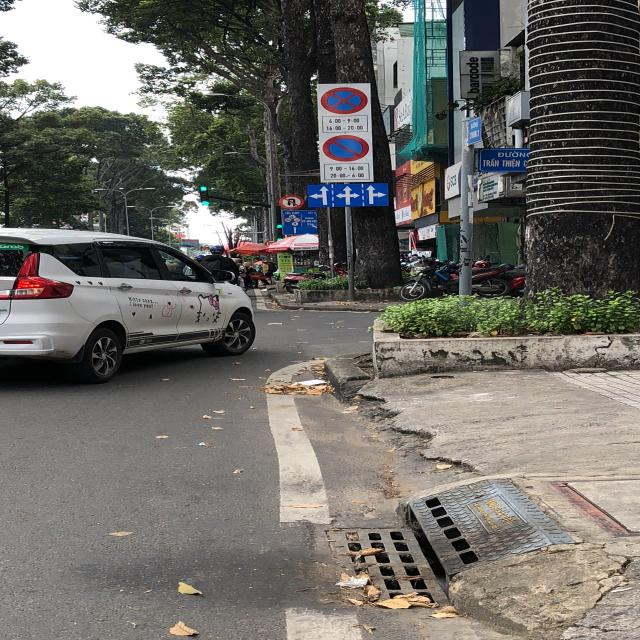Bien bao cam do xe: (320, 134, 371, 164)
Bien bao cam dung xe va do xe: (318, 85, 369, 114)
Bien bao cam quay dau xe: (278, 193, 304, 209)
